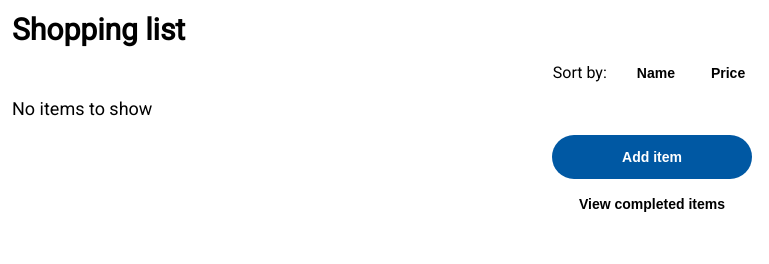
Test: should toggle button text when press on 'View completed items'
Click the button "View completed items" at (652, 204), box [573,195,731,213]
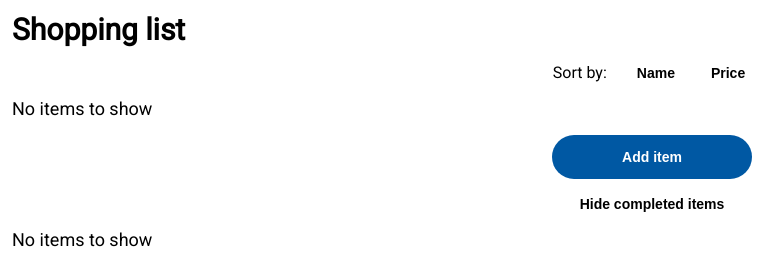
Now the button "Hide completed items" is shown, box [574,195,730,213]
